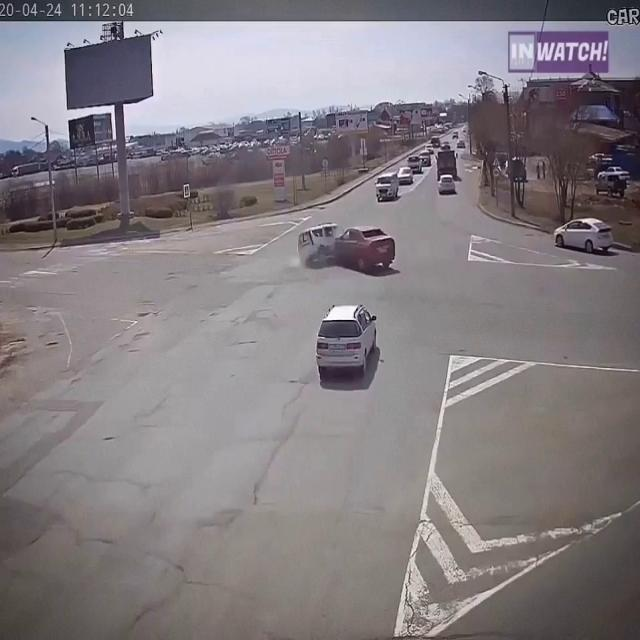accident: (296, 220, 397, 274)
